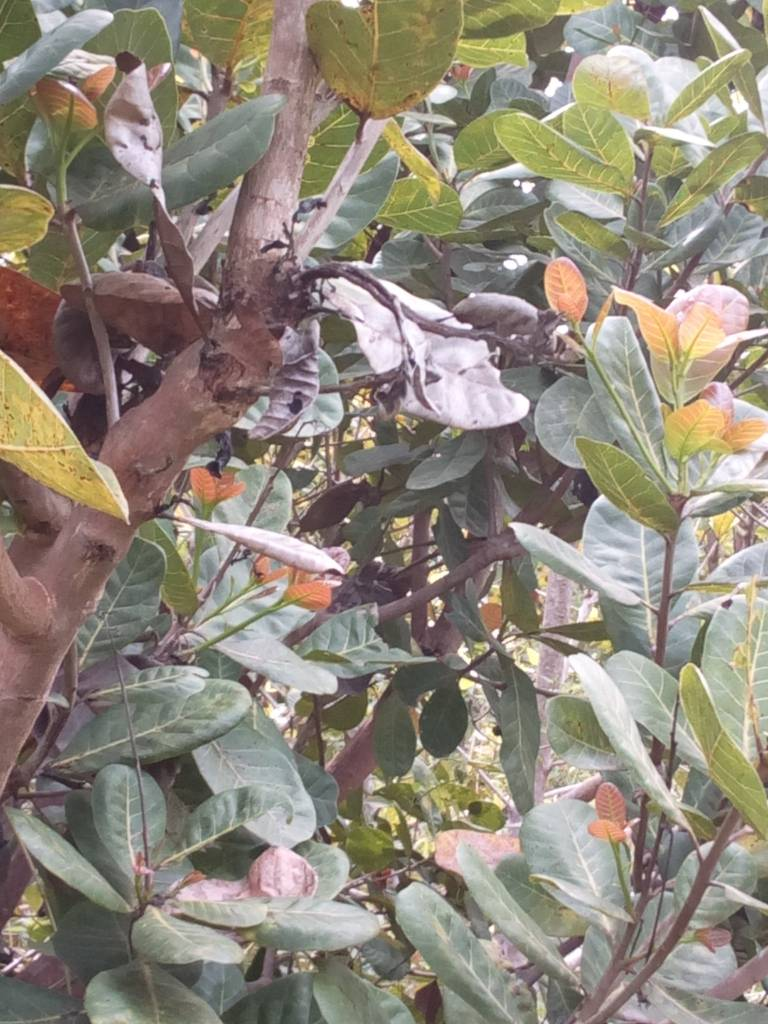Dessèchement des bourgeons: (274, 214, 433, 420), (509, 322, 580, 393), (333, 100, 397, 147)
